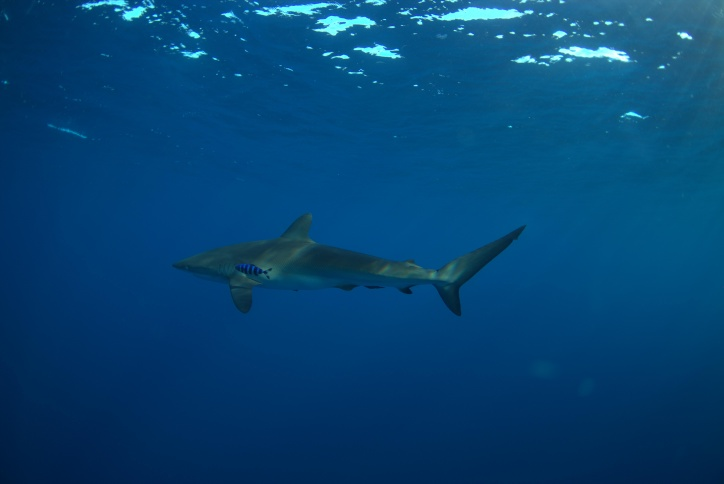Sedoso: (151, 203, 535, 340)
